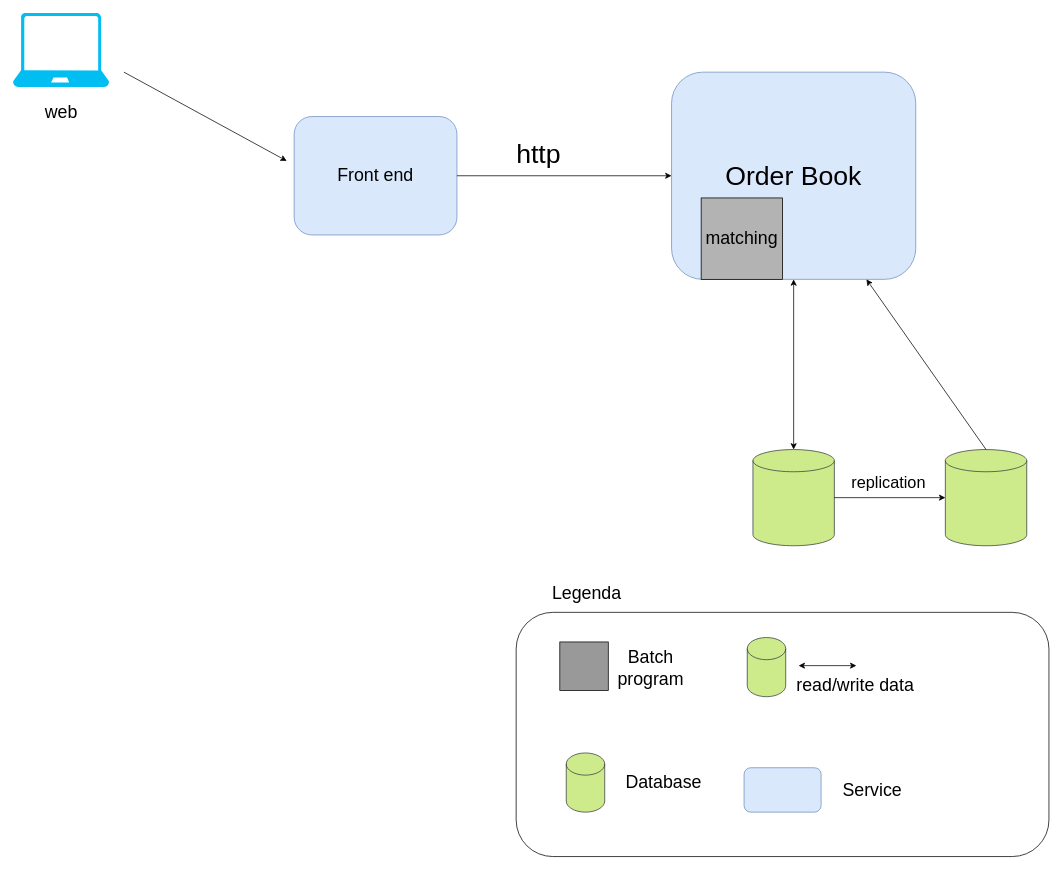
This 1062x870 diagram has some shape labels left out. The shapes that lost their labels are listed below. From the top down, each one's centre as x and y in pixels, then its label:
At (x=793, y=497): "Lead".
At (x=986, y=497): "follower".
